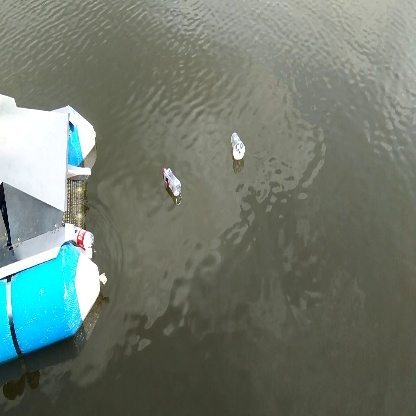bottle: (159, 162, 186, 198), (229, 128, 248, 164)
